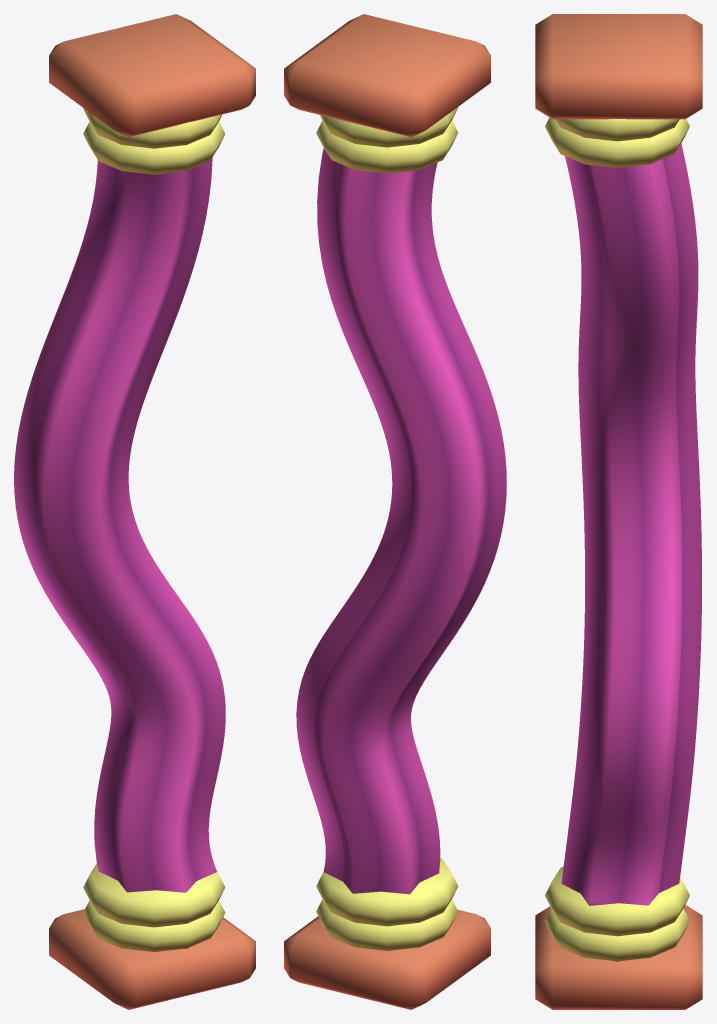
The model's file is Columna1.fbx.
3 renders of one model, left to right at view 1: azimuth 30°, elevation 25°; view 2: azimuth 150°, elevation 25°; view 3: azimuth 270°, elevation 25°, orthographic. The views are drawn at different scales.
Parts seen in each view (by area): view 1: Columna1; view 2: Columna1; view 3: Columna1.
Boxes of the visible parts, x1,y1,x2,y2 form: Columna1: (14,14,255,1009); Columna1: (284,14,506,1009); Columna1: (535,14,702,1009).
Size of the model in its own units: 82.18 by 389 by 62.7.
